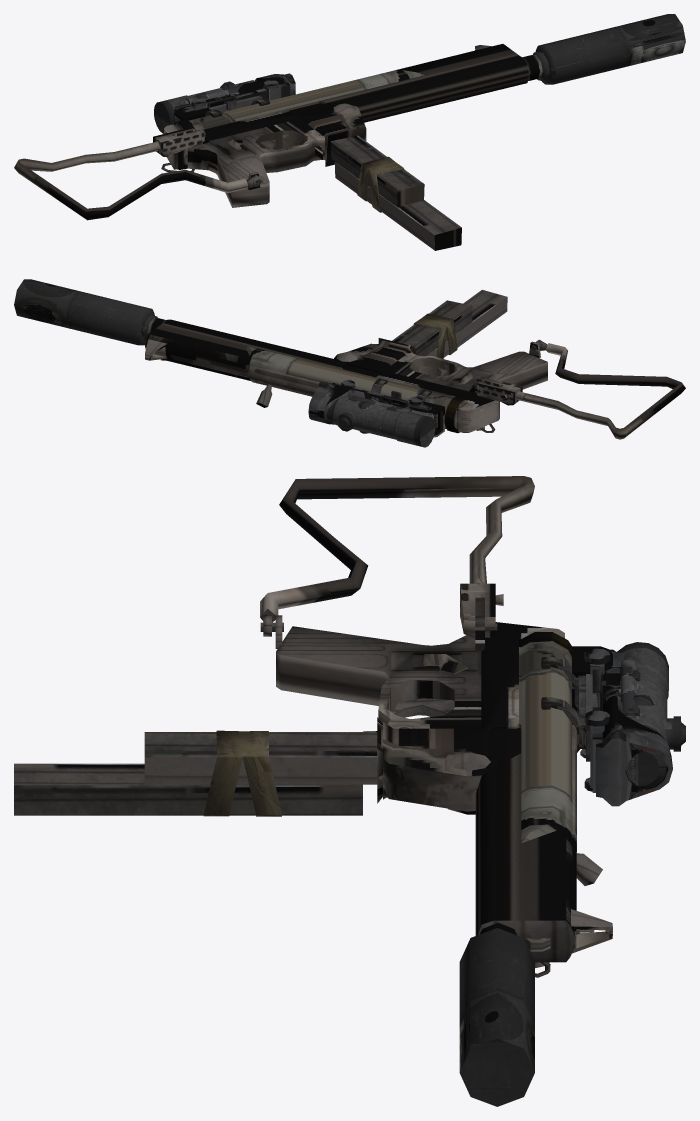
File: t5_weapon_mpl_world.glb
The picture shows the model from 3 angles, top to bottom: view 1: azimuth 30°, elevation 25°; view 2: azimuth 150°, elevation 25°; view 3: azimuth 270°, elevation 25°; orthographic projection. The views are drawn at different scales.
Visible parts, largest first — view 1: t5_weapon_mpl_world; view 2: t5_weapon_mpl_world; view 3: t5_weapon_mpl_world.
Part boxes in pixels (left/top/right/bottom): t5_weapon_mpl_world: left=14, top=14, right=685, bottom=250; t5_weapon_mpl_world: left=14, top=279, right=685, bottom=447; t5_weapon_mpl_world: left=14, top=476, right=685, bottom=1106.
Bounding box in the file's own units: 0.816 × 0.0667 × 0.4161.
10 materials, 10 textured.
